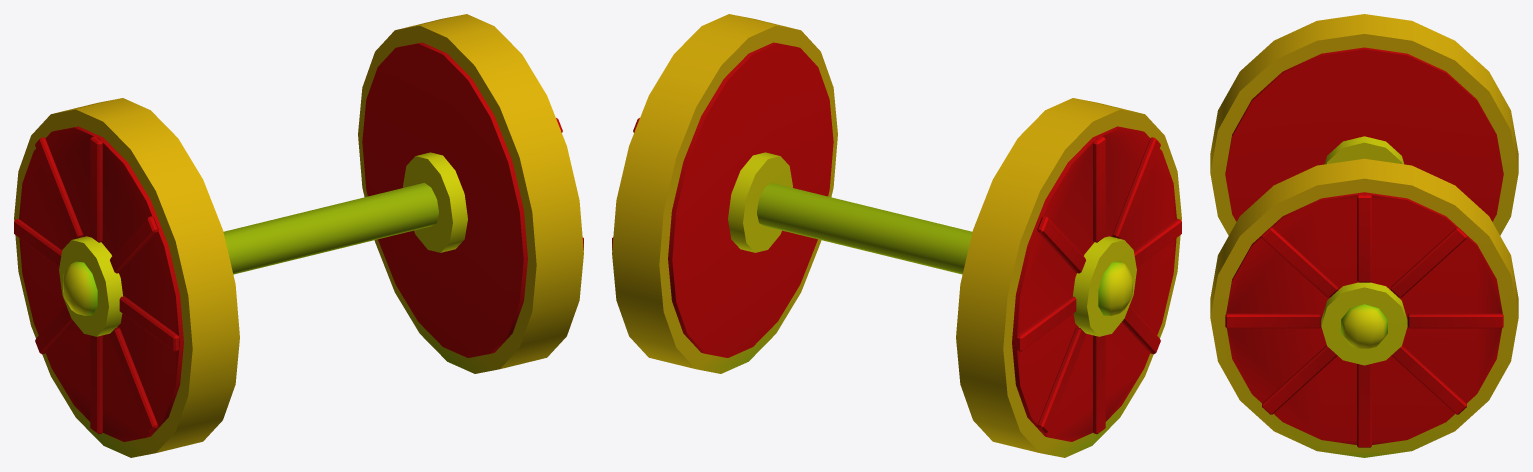
The model's file is MagicCannon_wheel0.glb.
The picture shows the model from 3 angles, left to right: view 1: azimuth 30°, elevation 25°; view 2: azimuth 150°, elevation 25°; view 3: azimuth 270°, elevation 25°; orthographic projection. The views are drawn at different scales.
Visible parts, largest first — view 1: MagicCannon_wheel0; view 2: MagicCannon_wheel0; view 3: MagicCannon_wheel0.
Part boxes in pixels (x1=…): MagicCannon_wheel0: x1=14, y1=14, x2=583, y2=457; MagicCannon_wheel0: x1=612, y1=14, x2=1181, y2=457; MagicCannon_wheel0: x1=1210, y1=14, x2=1518, y2=457.
Bounding box in the file's own units: 2.47 × 1.66 × 1.66.
